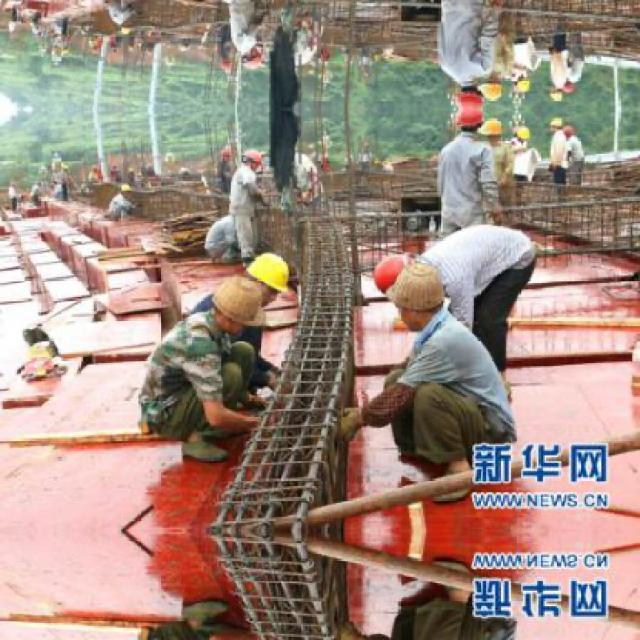helmet: (240, 248, 292, 306), (371, 248, 415, 292), (452, 109, 488, 134), (452, 82, 488, 106), (237, 147, 263, 176), (237, 41, 263, 70), (478, 72, 504, 101), (478, 116, 504, 144), (514, 120, 529, 142), (514, 74, 529, 95), (549, 83, 565, 102), (549, 114, 565, 132), (560, 78, 575, 95), (560, 122, 575, 138)
